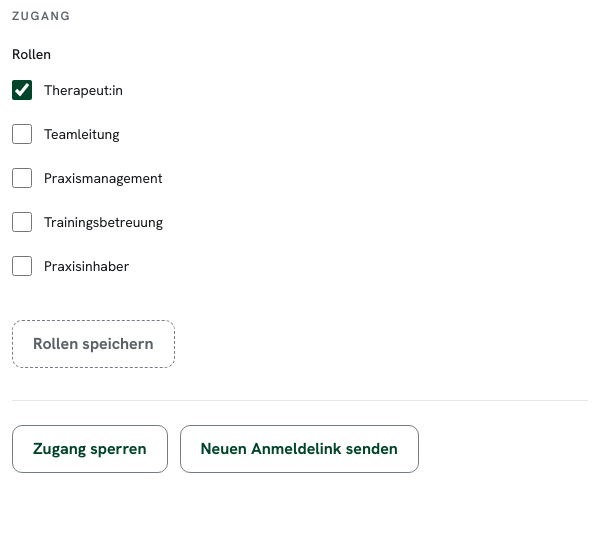
Test case: StaffAccountSection - bestehender Zugang › speichert keine leere Rollenliste
The image size is (605, 538).
Click the checkbox labelled "Therapeut:in" at (22, 90), box [12,80,32,100]
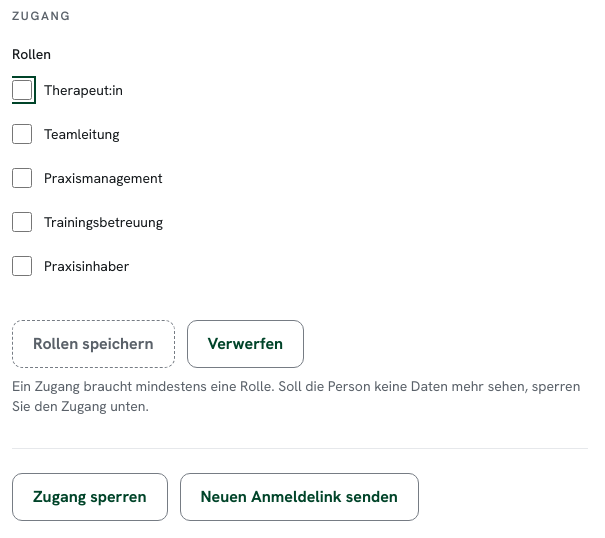
Expected: the button "Rollen speichern" is disabled, [12,320,174,368]
Expected: the text "Ein Zugang braucht mindestens eine Rolle" is shown, [12,377,580,415]
